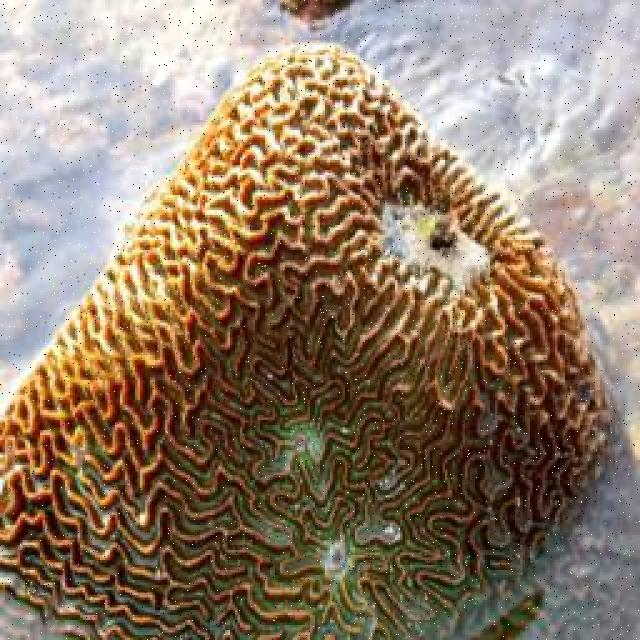reefs: (0, 42, 638, 638)
